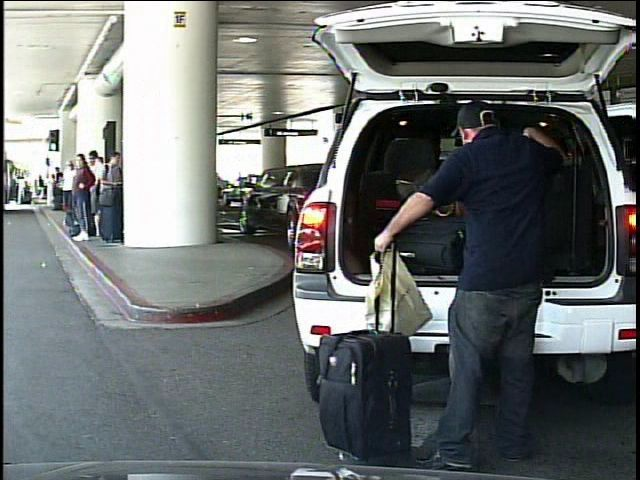person: (375, 101, 566, 474), (33, 172, 46, 203), (18, 175, 28, 206)
